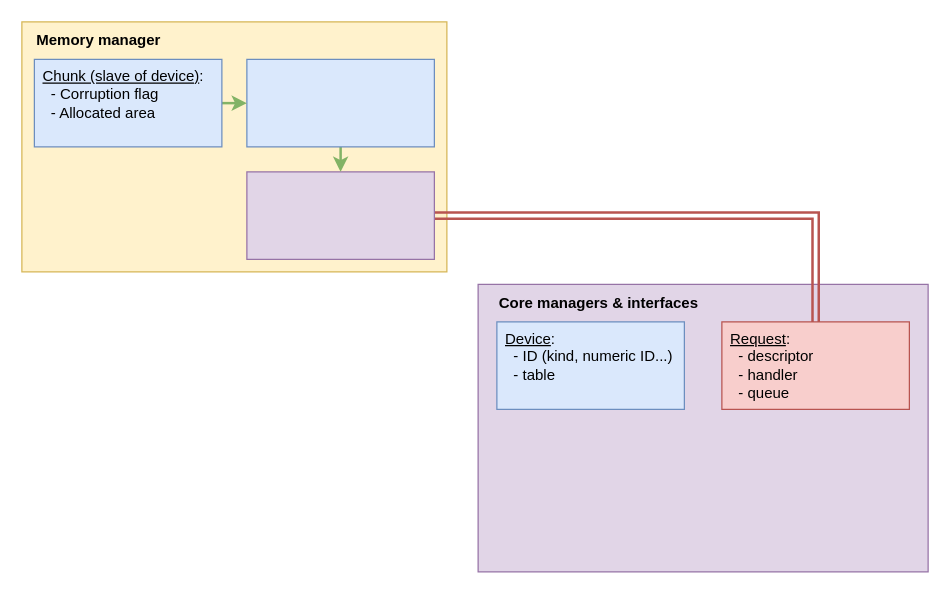
The diagram is 950 pixels wide and 594 high, and some of its shapes have lost their labels. Each missing label, with the box of its shape:
Allocator : - ...: (246, 171, 434, 259)
Device : - ID: memory device - Space available: (246, 58, 434, 147)
